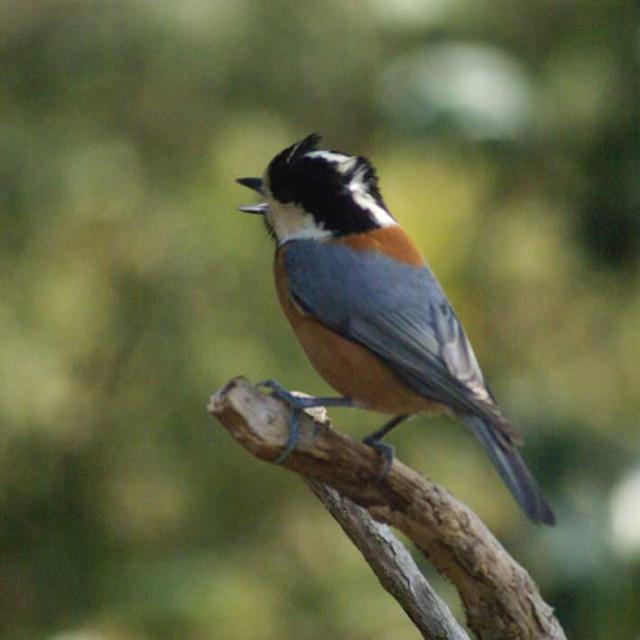bird: (222, 128, 558, 524)
